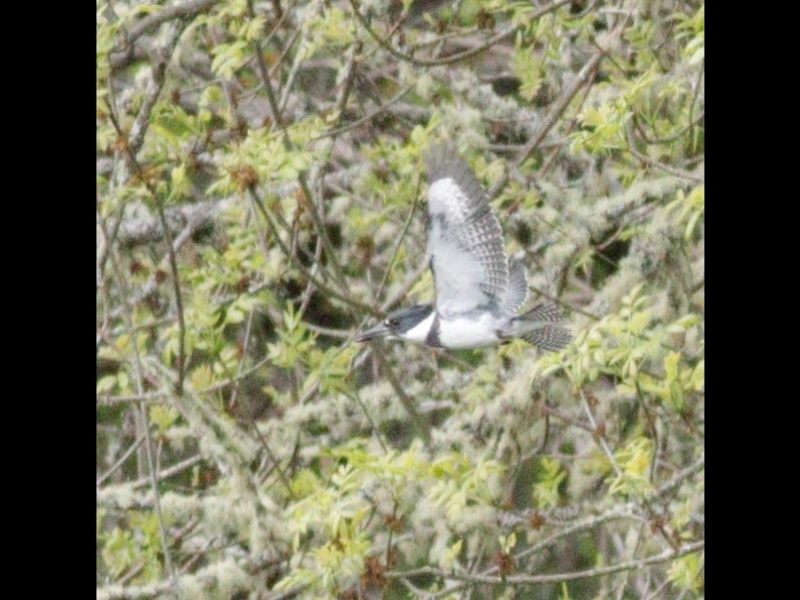kingfisher: (351, 145, 574, 359)
